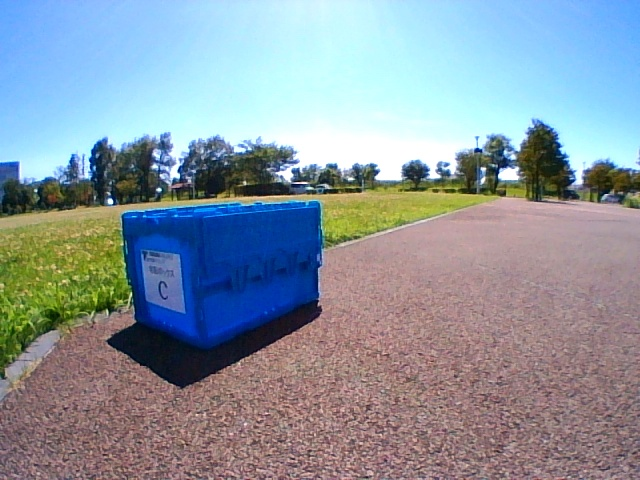blue_box: (122, 201, 322, 348)
tag_c: (145, 256, 181, 302)
